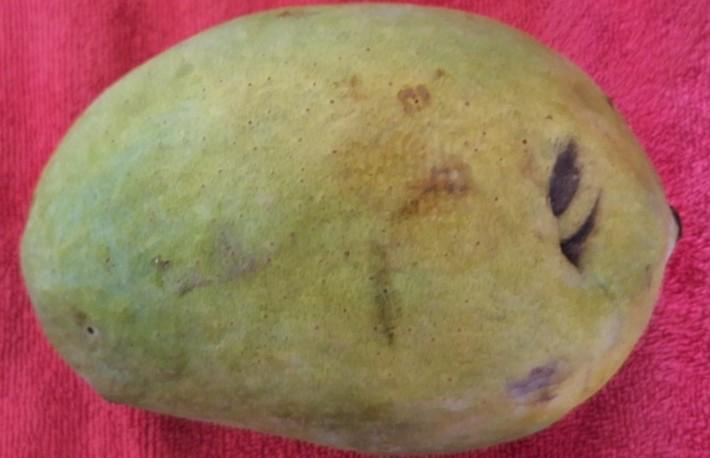mango: (18, 1, 680, 456)
